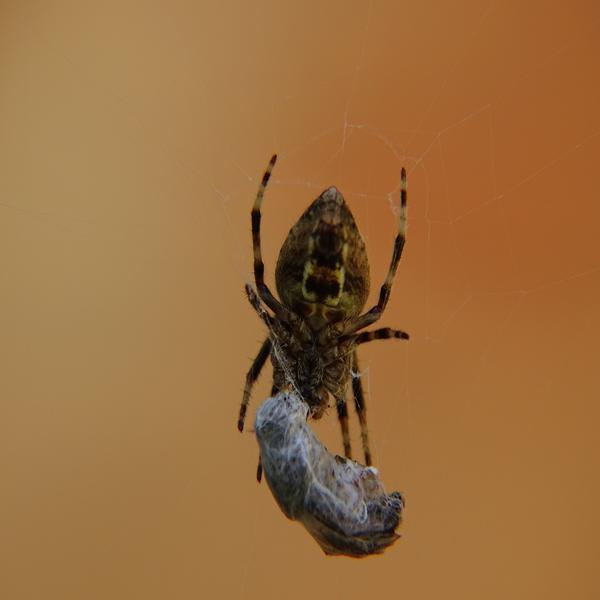Garden Orb Weaver Spider: (245, 162, 407, 486)
